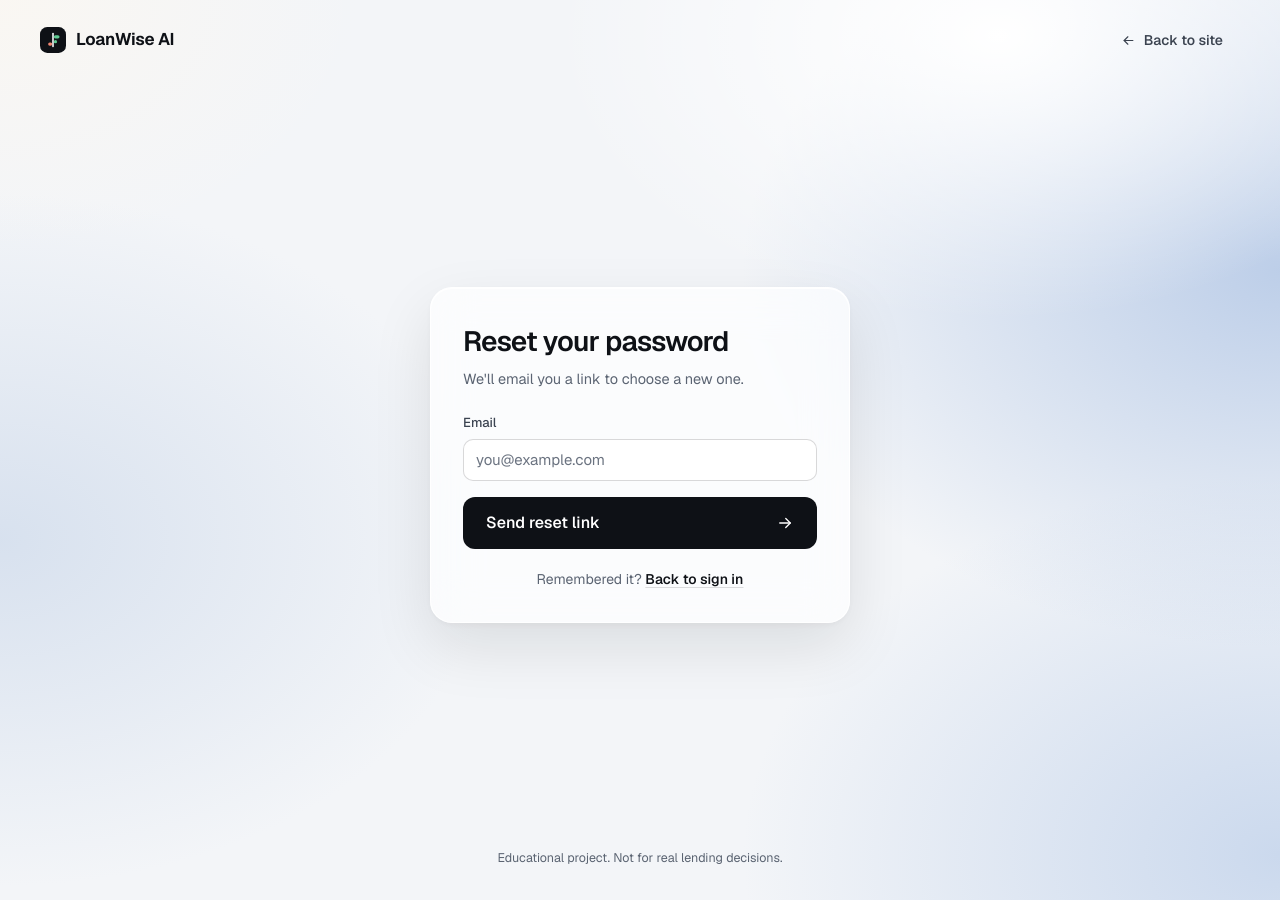
forgot password › shows service errors such as rate limits
In the field labelled "Email": (640, 460) [463, 439, 817, 481], type "ada@example.com"
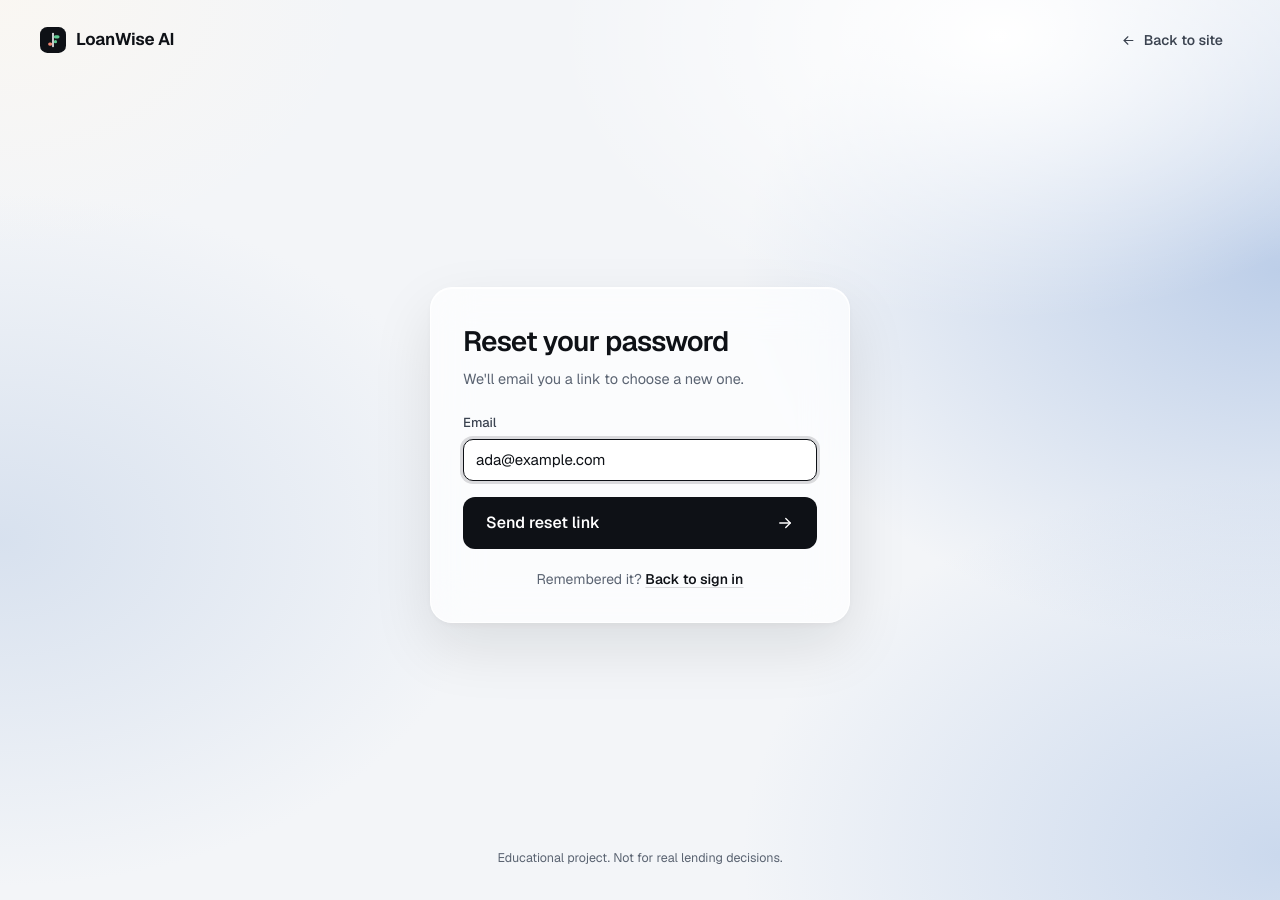
Click the button "Send reset link": (543, 522) [463, 497, 817, 549]
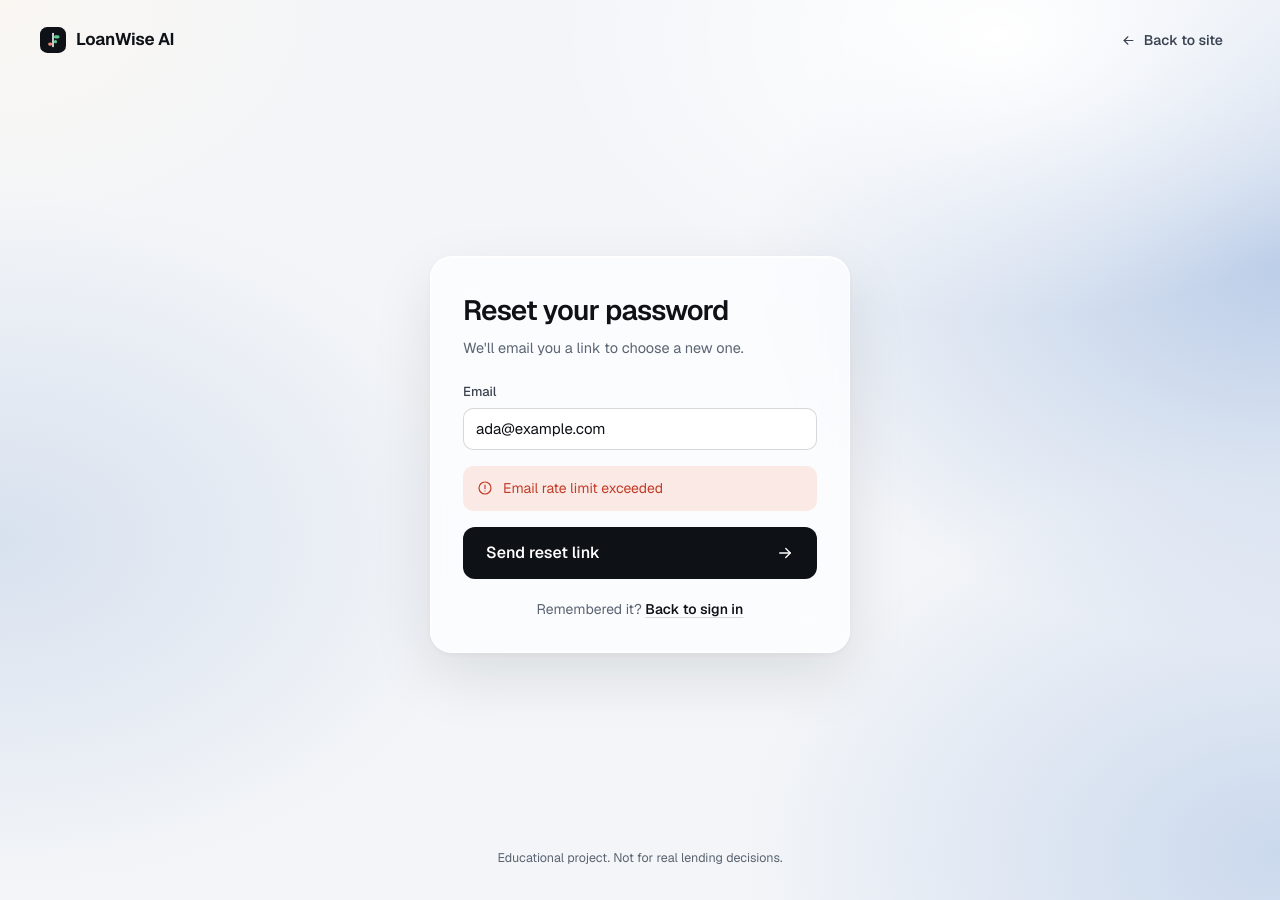
Now the message shows "rate limit", box [503, 479, 663, 497]
